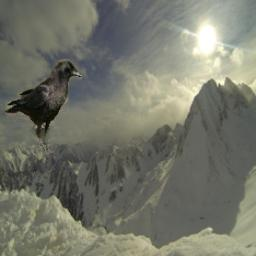Crow: (5, 59, 82, 154)
